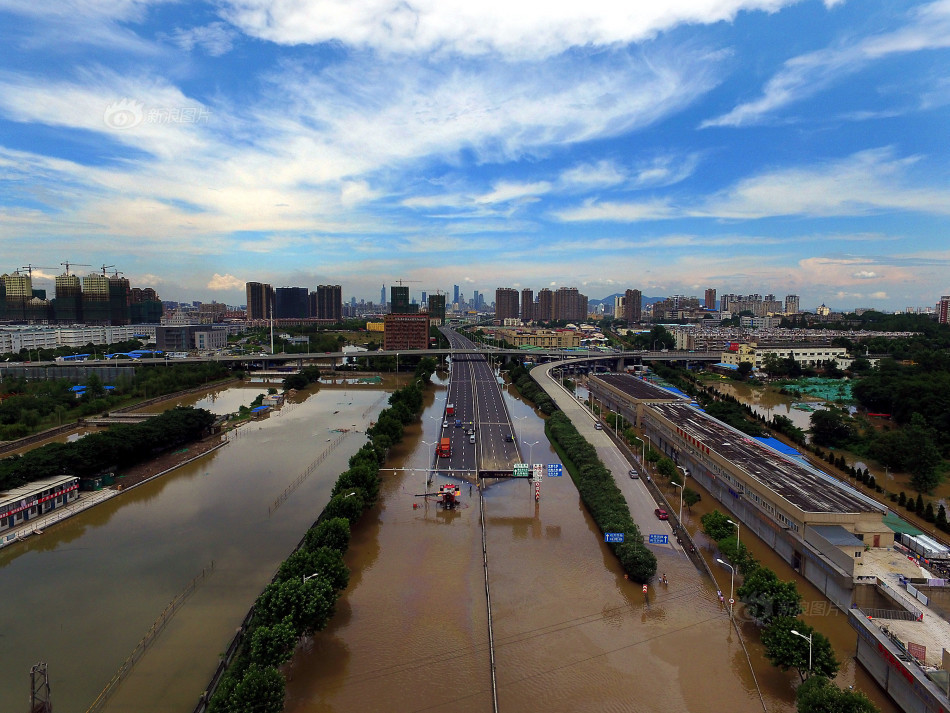puddle: (363, 471, 702, 713)
